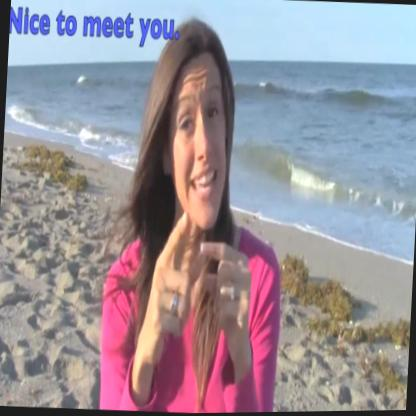NiceToMeetYou: (138, 186, 264, 376)
